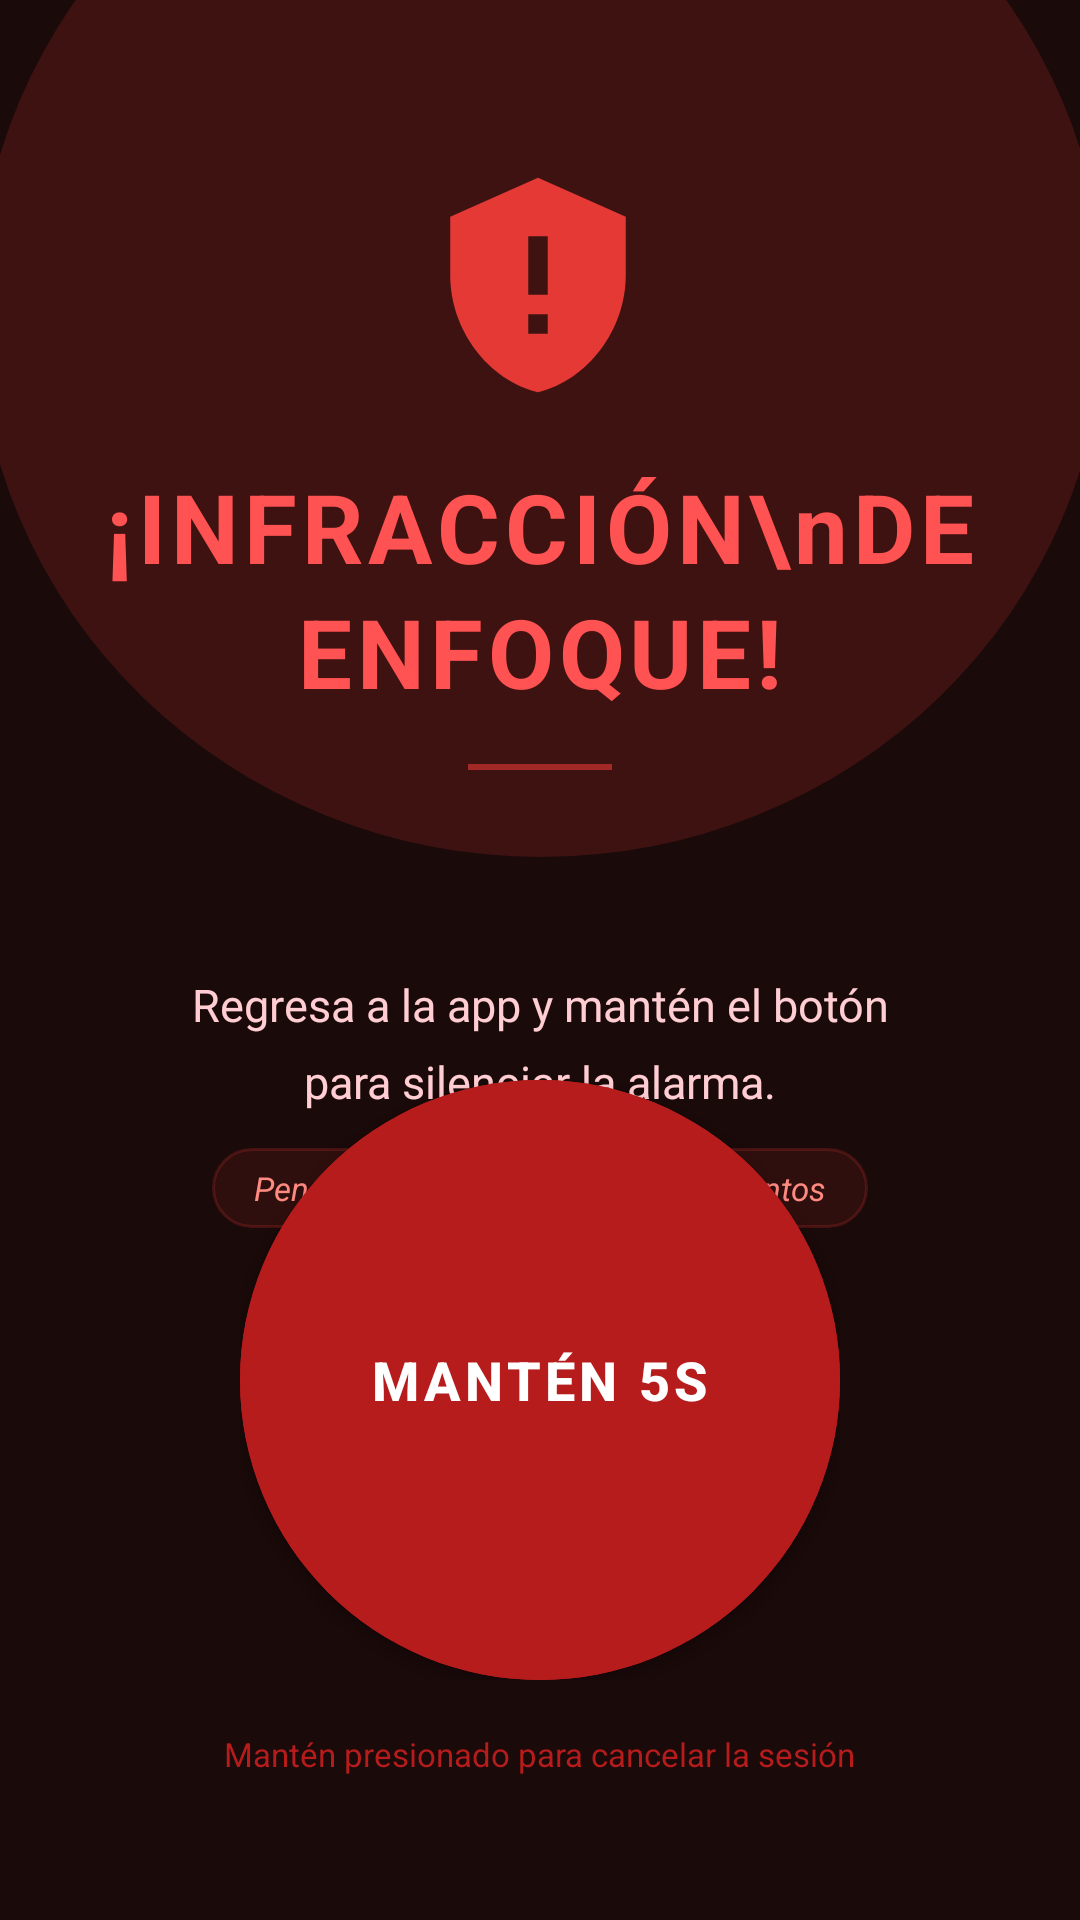

Icon click points for this 1080 × 1920 phone screenshot, format point (x, y):
alerta escudo: point (538, 285)
